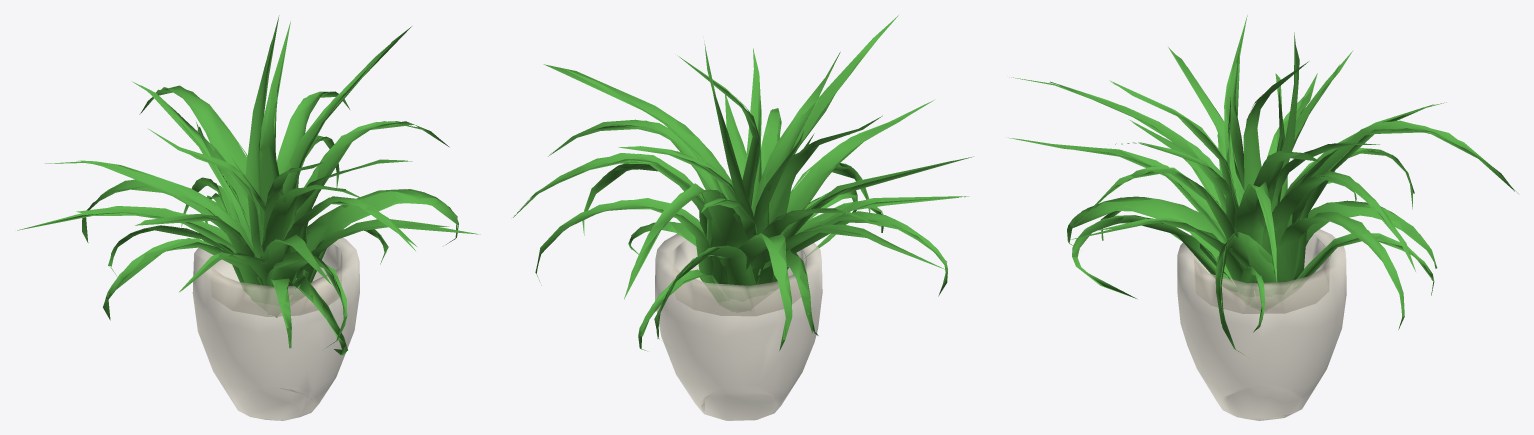
Rendered from flower_1.fbx.
The picture shows the model from 3 angles, left to right: view 1: azimuth 30°, elevation 25°; view 2: azimuth 150°, elevation 25°; view 3: azimuth 270°, elevation 25°; orthographic projection. The views are drawn at different scales.
Visible parts, largest first — view 1: POT; view 2: POT; view 3: POT.
Boxes of the visible parts, bbox=[...] form: POT: bbox=[17, 15, 480, 420]; POT: bbox=[513, 15, 973, 420]; POT: bbox=[1008, 15, 1518, 420].
Bounding box in the file's own units: 254 × 217 × 266.
